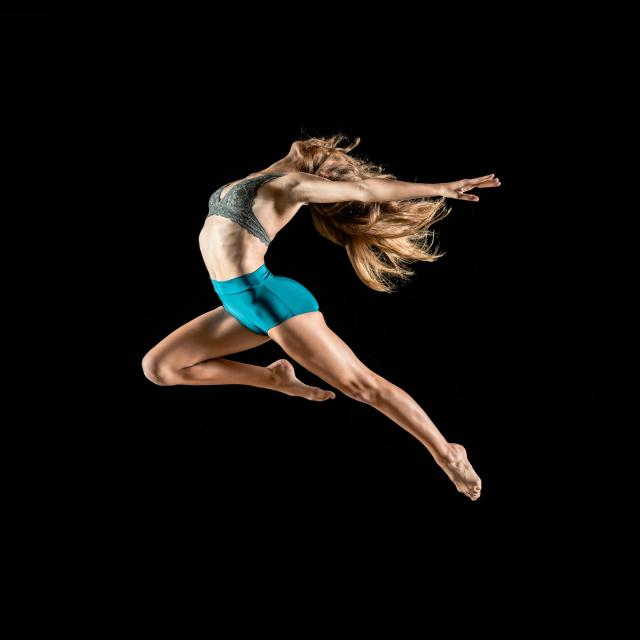adult: (140, 136, 507, 498)
